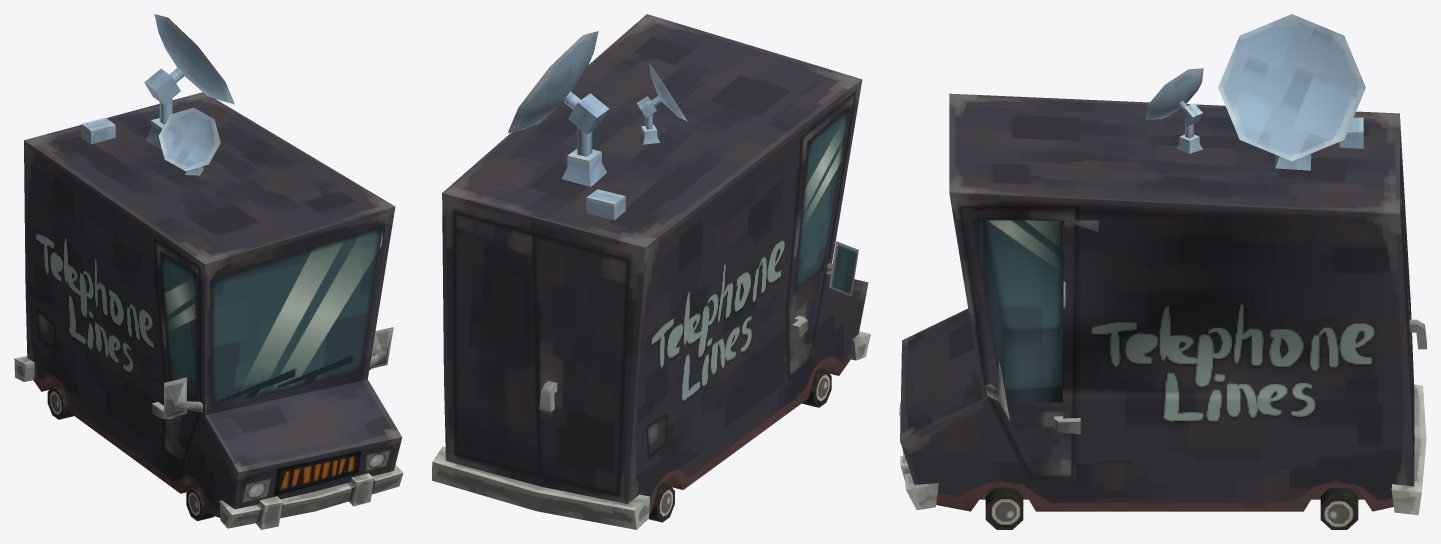
The model's file is Van(Windowed).fbx.
3 renders of one model, left to right at view 1: azimuth 30°, elevation 25°; view 2: azimuth 150°, elevation 25°; view 3: azimuth 270°, elevation 25°, orthographic. The views are drawn at different scales.
Visible parts, largest first — view 1: van, locator, wheel_4, wheel_2; view 2: van, locator, wheel_2, wheel_4; view 3: van, locator, wheel_3, wheel_1.
Boxes of the visible parts, x1,y1,x2,y2 form: van: (14,92,403,529); locator: (81,14,234,175); wheel_4: (47,385,73,419); wheel_2: (186,486,214,520); van: (432,14,870,529); locator: (508,31,687,220); wheel_2: (802,368,831,407); wheel_4: (648,483,674,522); van: (899,93,1426,515); locator: (1145,14,1365,170); wheel_3: (1320,488,1358,529); wheel_1: (985,488,1023,529).
Bounding box in the file's own units: 270 × 440 × 445.
